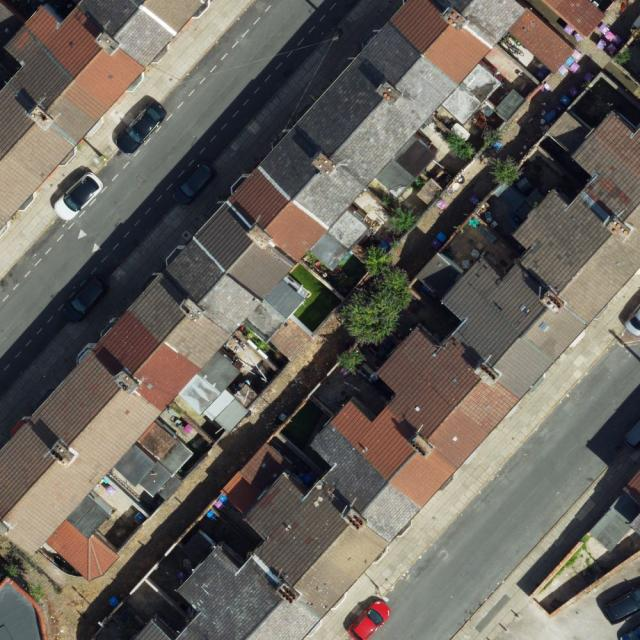roof: (0, 0, 575, 580), (0, 0, 207, 228), (0, 577, 46, 638), (539, 0, 606, 39)
skylight: (515, 302, 533, 319), (537, 320, 552, 334)
